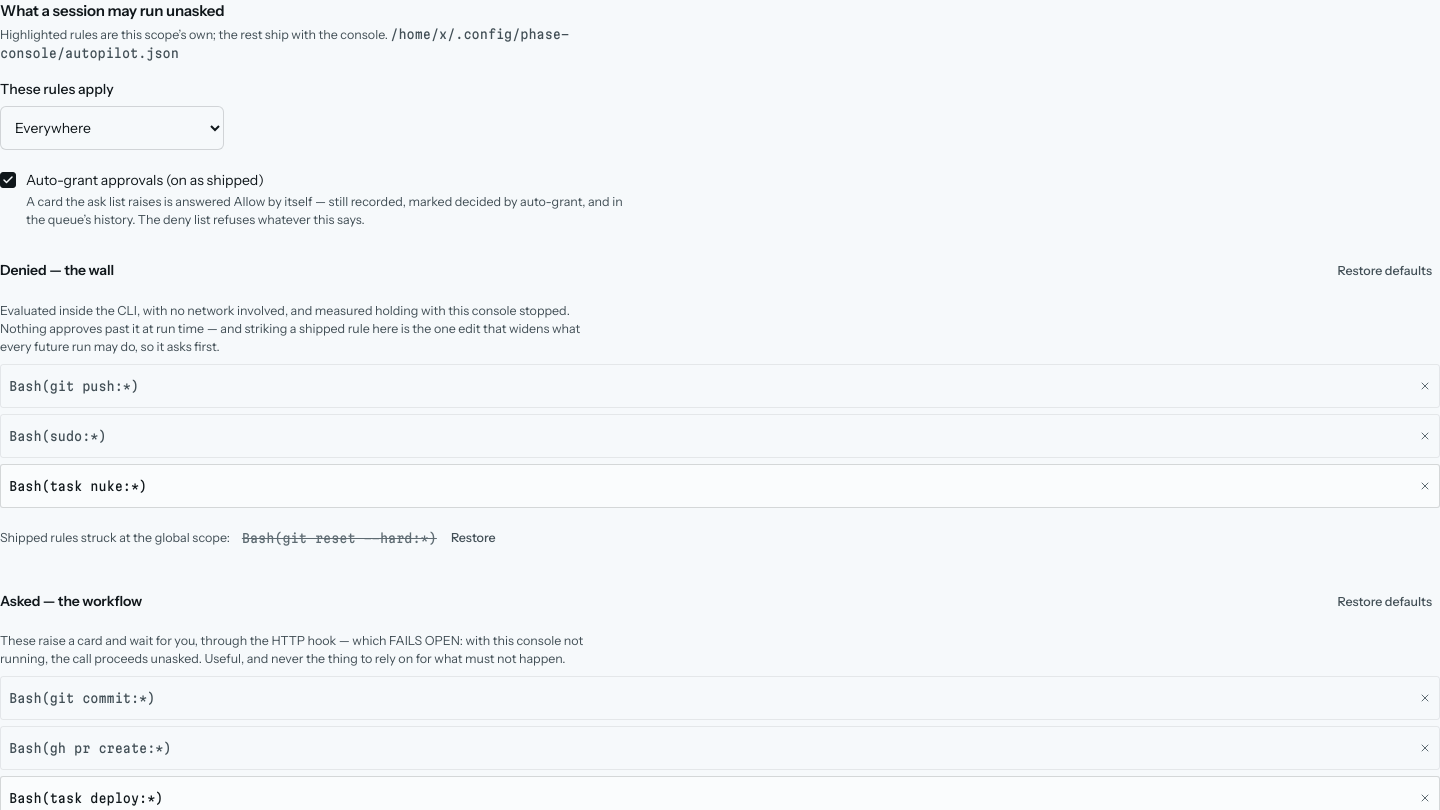
Test: striking a rule › a shipped deny rule asks once, naming the rule and the scope, and is written only on confirm
Expected: the heading "What a session may run unasked" is shown, [0,0,224,21]
Click the button named "Remove Bash(git push:*)" at [1425, 386], box [1419,380,1431,392]
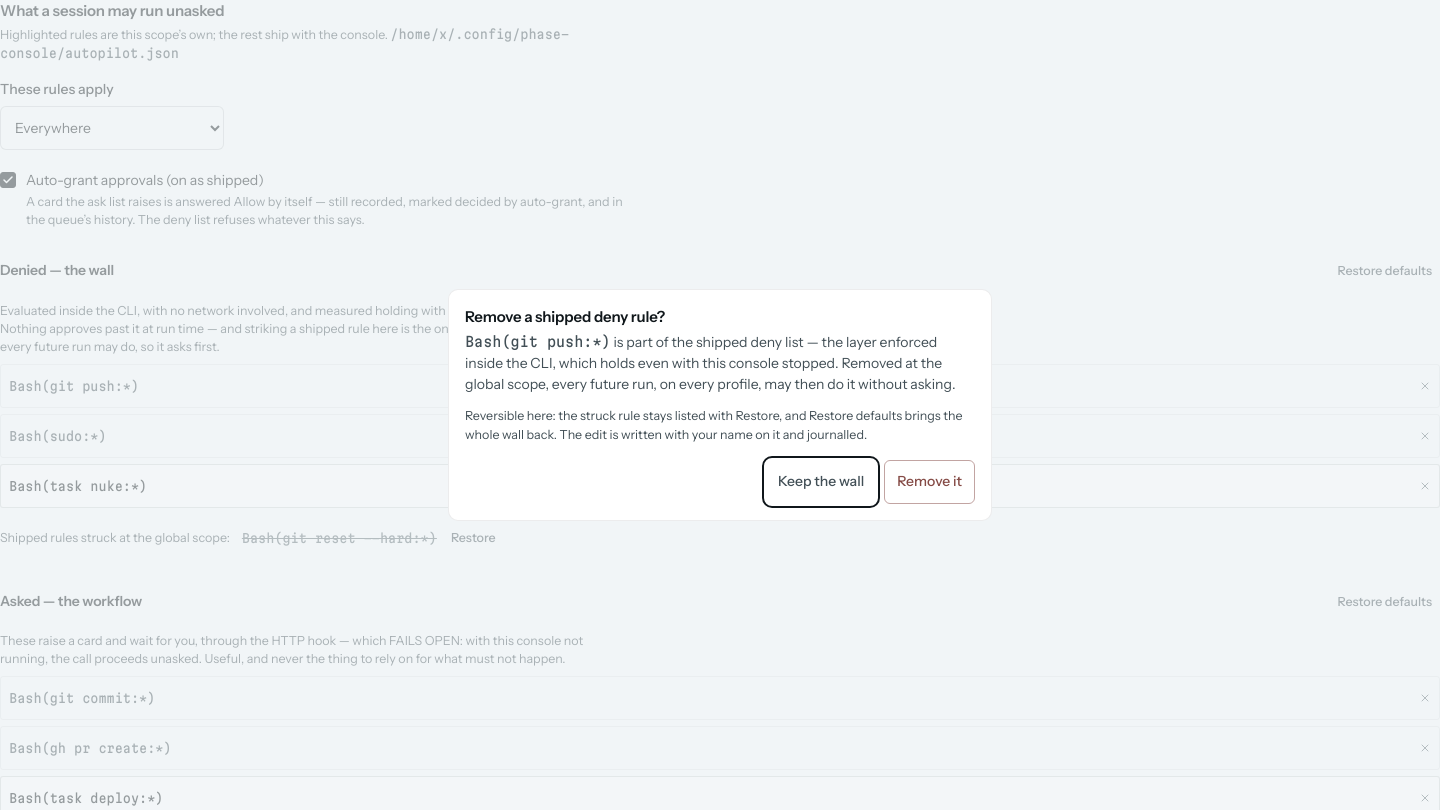
Result: the number of dialogs is 1 at [448,289,992,521]
Result: the dialog shows "Bash(git push:*) is part of the shipped deny list — the layer enforced inside the CLI, which holds even with this console stopped. Removed at the global scope," at [448,289,992,521]
Result: the dialog shows "Reversible here: the struck rule stays listed with Restore" at [465,408,962,442]
Click the button "Remove it" at [930, 482], box [884,460,975,504]
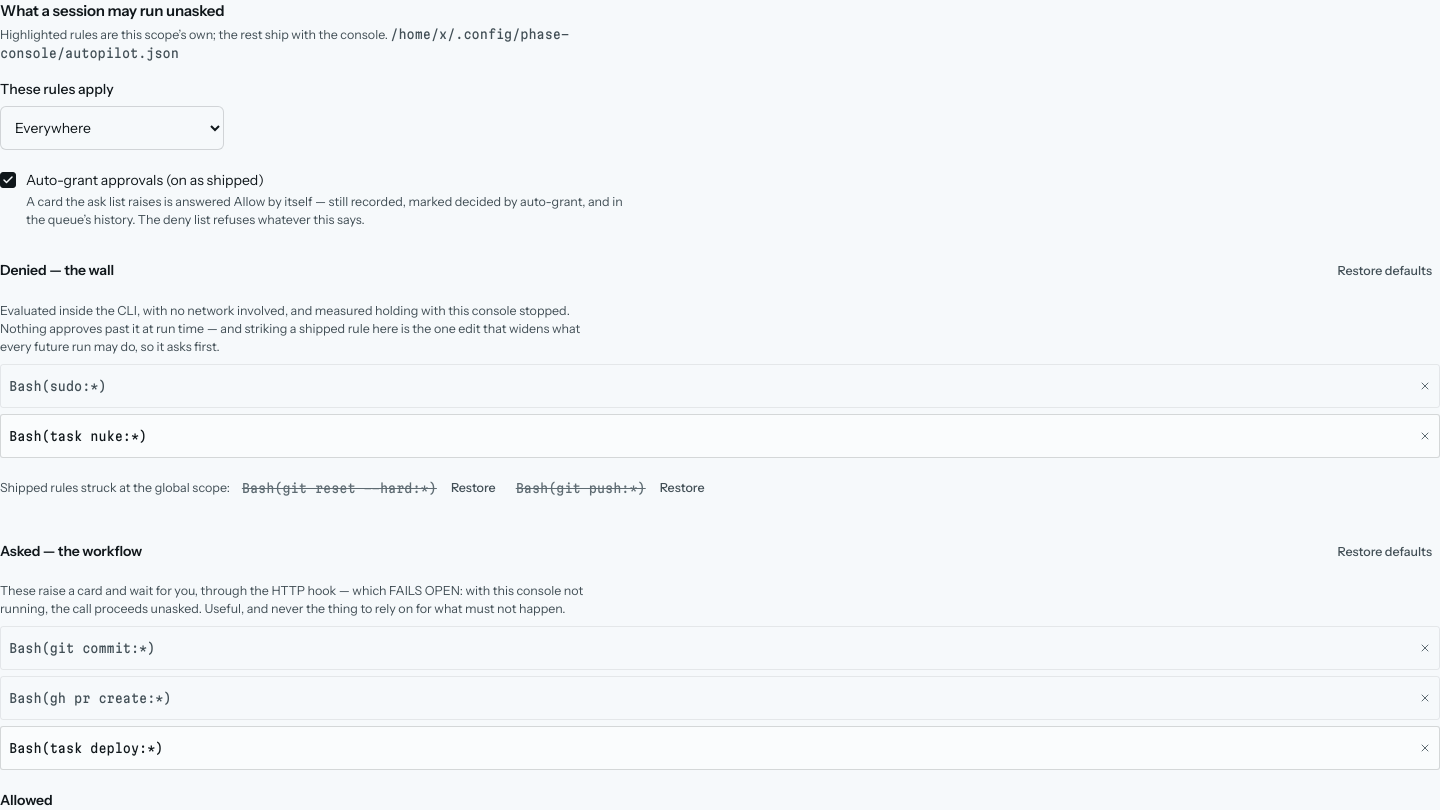
Expected: the list named "Denied — the wall: 2 rules" does not show "Bash(git push:*)", [0,364,1439,458]
Result: the button with aria-label "Restore Bash(git push:*)" is shown at [652,466,712,510]
Result: the dialog is gone
